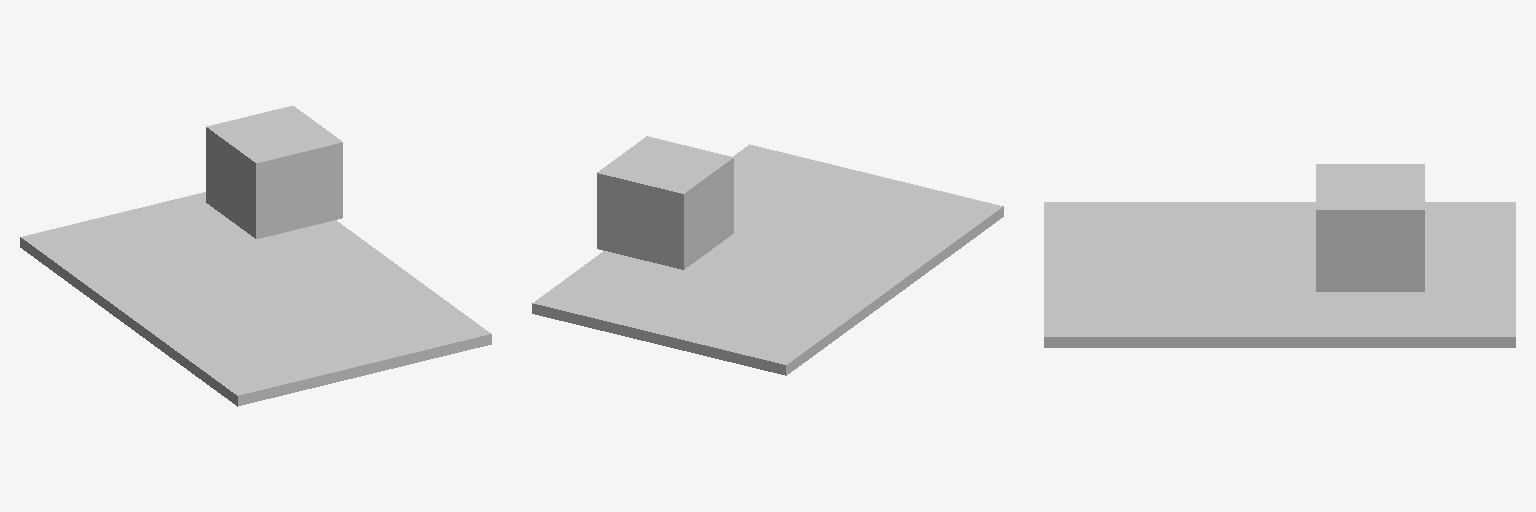
robot.urdf — cabinet_sektion:
<?xml version="1.0"?>
<robot name="cabinet_sektion">
  <material name="White">
    <color rgba="0.85 0.85 0.85 1.0"/>
  </material>
  <material name="Grey">
    <color rgba="0.6 0.6 0.6 1.0"/>
  </material>
  <material name="Front">
    <color rgba="0.4 0.4 0.4 1.0"/>
  </material>

  <link name="sektion">
    <inertial>
      <origin rpy="0 0 0" xyz="0 0 0.0"/>
      <mass value=".2"/>
      <inertia ixx="0.1" ixy="0" ixz="0" iyy="0.1" iyz="0" izz="0.1"/>
    </inertial>
    <visual name="sektion_visual">
      <origin rpy="0  0  0" xyz="0.0364  0  -0.266"/>
      <geometry>
        <box size=".35 .518 .014"/>
      </geometry>
      <material name="White"/>
    </visual>
    <collision name="sektion_collision">
      <origin rpy="0  0  0" xyz="0.0364  0  -0.266"/>
      <geometry>
        <box size=".35 .518 .014"/>
      </geometry>
    </collision>
  </link>

  <link name="block">
    <inertial>
      <origin rpy="0 0 0" xyz="0 0 0.0"/>
      <mass value=".2"/>
      <inertia ixx="0.1" ixy="0" ixz="0" iyy="0.1" iyz="0" izz="0.1"/>
    </inertial>
    <visual name="block_visual">
      <origin rpy="0  0  0" xyz="0.  0.  0."/>
      <geometry>
        <box size=".12 .12 .1"/>
      </geometry>
      <material name="White"/>
    </visual>
    <collision name="block_collision">
      <origin rpy="0  0  0" xyz="0.  0.  0."/>
      <geometry>
        <box size=".12 .12 .1"/>
      </geometry>
    </collision>
  </link>

  <link name="drawer_top">
    <inertial>
      <origin rpy="0 0 0" xyz="0 0 0.0"/>
      <mass value=".2"/>
      <inertia ixx="0.1" ixy="0" ixz="0" iyy="0.1" iyz="0" izz="0.1"/>
    </inertial>
    <visual name="drawer_top_visual">
      <origin rpy="0  0  0" xyz="0  0  0"/>
      <geometry>
        <mesh filename="sektion_cabinet_model/meshes/drawer.obj" scale="0.7 0.7 0.7"/>
      </geometry>
      <material name="Front"/>
    </visual>
    <collision name="drawer_top_collision">
      <origin rpy="0  0  0" xyz="0  0  0"/>
      <geometry>
        <mesh filename="sektion_cabinet_model/meshes/drawer.obj" scale="0.7 0.7 0.7"/>
      </geometry>
    </collision>
  </link>

  <link name="drawer_handle_top">
    <inertial>
      <origin rpy="0 0 0" xyz="0 0 0"/>
      <mass value="0.01"/>
      <inertia ixx="0.1" ixy="0" ixz="0" iyy="0.1" iyz="0" izz="0.1"/>
    </inertial>
    <visual name="drawer_handle_top_visual">
      <origin rpy="0  0  0" xyz="0  0  0"/>
      <geometry>
        <mesh filename="sektion_cabinet_model/meshes/drawer_handle.obj" scale="0.7 0.7 0.7"/>
      </geometry>
      <material name="Grey"/>
    </visual>
    <collision name="drawer_handle_top_collision">
      <geometry>
        <mesh filename="sektion_cabinet_model/meshes/drawer_handle.obj" scale="0.7 0.7 0.7"/>
      </geometry>
    </collision>
    <contact>
      <lateral_friction value="1.0"/>
      <spinning_friction value="0.3"/>
      <inertia_scaling value="3.0"/>
    </contact>
  </link>

  <link name="drawer_bottom">
    <inertial>
      <origin rpy="0 0 0" xyz="0 0 0.0"/>
      <mass value=".2"/>
      <inertia ixx="0.1" ixy="0" ixz="0" iyy="0.1" iyz="0" izz="0.1"/>
    </inertial>
    <visual name="drawer_bottom_visual">
      <origin rpy="0  0  0" xyz="0  0  0"/>
      <geometry>
        <mesh filename="sektion_cabinet_model/meshes/drawer.obj" scale="0.7 0.7 0.7"/>
      </geometry>
      <material name="Front"/>
    </visual>
    <collision name="drawer_bottom_collision">
      <origin rpy="0  0  0" xyz="0  0  0"/>
      <geometry>
        <mesh filename="sektion_cabinet_model/meshes/drawer.obj" scale="0.7 0.7 0.7"/>
      </geometry>
      <material name="White"/>
    </collision>
  </link>

  <link name="drawer_handle_bottom">
    <inertial>
      <origin rpy="0 0 0" xyz="0 0 0"/>
      <mass value="0.01"/>
      <inertia ixx="0.1" ixy="0" ixz="0" iyy="0.1" iyz="0" izz="0.1"/>
    </inertial>
    <visual name="drawer_top_visual">
      <origin rpy="0  0  0" xyz="0  0  0"/>
      <geometry>
        <mesh filename="sektion_cabinet_model/meshes/drawer_handle.obj" scale="0.7 0.7 0.7"/>
      </geometry>
      <material name="Grey"/>
    </visual>
    <collision name="drawer_top_collision">
      <origin rpy="0  0  0" xyz="0  0  0"/>
      <geometry>
        <mesh filename="sektion_cabinet_model/meshes/drawer_handle.obj" scale="0.7 0.7 0.7"/>
      </geometry>
      <material name="White"/>
    </collision>
    <contact>
      <lateral_friction value="1.0"/>
      <spinning_friction value="0.3"/>
      <inertia_scaling value="3.0"/>
    </contact>
  </link>

  <link name="door_right_link">
    <inertial>
      <origin rpy="0 0 0" xyz="0 0 0.0"/>
      <mass value=".2"/>
      <inertia ixx="0.1" ixy="0" ixz="0" iyy="0.1" iyz="0" izz="0.1"/>
    </inertial>
    <visual name="door_right_visual">
      <origin rpy="0  0  0" xyz="0  -0.1292942  0"/>
      <geometry>
        <mesh filename="sektion_cabinet_model/meshes/door_right.obj" scale="0.7 0.7 0.7"/>
      </geometry>
      <material name="Front"/>
    </visual>
    <collision name="door_right_collision">
      <origin rpy="0  0  0" xyz="0  -0.1292942  0"/>
      <geometry>
        <mesh filename="sektion_cabinet_model/meshes/door_right.obj" scale="0.7 0.7 0.7"/>
      </geometry>
      <material name="White"/>
    </collision>
  </link>

  <link name="door_right_nob_link">
    <inertial>
      <origin rpy="0 0 0" xyz="0 0 0"/>
      <mass value="0.01"/>
      <inertia ixx="0.1" ixy="0" ixz="0" iyy="0.1" iyz="0" izz="0.1"/>
    </inertial>
    <visual name="door_right_nob_visual">
      <origin rpy="0  0  0" xyz="-0.189  -0.196  0.119"/>
      <geometry>
        <mesh filename="sektion_cabinet_model/meshes/drawer_handle.obj" scale="0.7 0.7 0.7"/>
      </geometry>
      <material name="Grey"/>
    </visual>
    <collision name="door_right_nob_collision">
      <origin rpy="0  0  0" xyz="-0.189  -0.196  0.119"/>
      <geometry>
        <mesh filename="sektion_cabinet_model/meshes/drawer_handle.obj" scale="0.7 0.7 0.7"/>
      </geometry>
    </collision>
    <contact>
      <lateral_friction value="1.0"/>
      <spinning_friction value="0.3"/>
      <inertia_scaling value="3.0"/>
    </contact>
  </link>

  <link name="door_left_link">
    <inertial>
      <origin rpy="0 0 0" xyz="0 0 0.0"/>
      <mass value=".2"/>
      <inertia ixx="0.1" ixy="0" ixz="0" iyy="0.1" iyz="0" izz="0.1"/>
    </inertial>
    <visual name="door_left_visual">
      <origin rpy="0  0  0" xyz="0  0.1292942  0"/>
      <geometry>
        <mesh filename="sektion_cabinet_model/meshes/door_left.obj" scale="0.7 0.7 0.7"/>
      </geometry>
      <material name="Front"/>
    </visual>
    <collision name="door_left_collision">
      <origin rpy="0  0  0" xyz="0  0.1292942  0"/>
      <geometry>
        <mesh filename="sektion_cabinet_model/meshes/door_left.obj" scale="0.7 0.7 0.7"/>
      </geometry>
    </collision>
  </link>

  <link name="door_left_nob_link">
    <inertial>
      <origin rpy="0 0 0" xyz="0 0 0"/>
      <mass value="0.01"/>
      <inertia ixx="0.1" ixy="0" ixz="0" iyy="0.1" iyz="0" izz="0.1"/>
    </inertial>
    <visual name="door_left_nob_visual">
      <origin rpy="0  0  0" xyz="-0.189  0.196  0.119"/>
      <geometry>
        <mesh filename="sektion_cabinet_model/meshes/drawer_handle.obj" scale="0.7 0.7 0.7"/>
      </geometry>
      <material name="Grey"/>
    </visual>
    <collision name="door_left_nob_collision">
      <origin rpy="0  0  0" xyz="-0.189  0.196  0.119"/>
      <geometry>
        <mesh filename="sektion_cabinet_model/meshes/drawer_handle.obj" scale="0.7 0.7 0.7"/>
      </geometry>
    </collision>
    <contact>
      <lateral_friction value="1.0"/>
      <spinning_friction value="0.3"/>
      <inertia_scaling value="3.0"/>
    </contact>
  </link>

  <joint name="sektion_block_joint" type="fixed">
    <parent link="sektion"/>
    <child link="block"/>
    <origin xyz="0.12 0.1 -0.17" rpy="0 0 0"/>
    <axis xyz="0 0 1"/>
  </joint>

  <joint name="door_right_joint" type="revolute">
    <parent link="sektion"/>
    <child link="door_right_link"/>
    <origin xyz="0.22134 0.26299 -0.090811" rpy="0 0 0"/>
    <axis xyz="0 0 1"/>
    <limit effort="1000.0" lower="0" upper="2.57" velocity="10.0"/>
    <dynamics damping="0.0" friction="0.0"/>
  </joint>
  <joint name="door_right_nob_transform" type="fixed">
    <parent link="door_right_link"/>
    <child link="door_right_nob_link"/>
    <origin xyz="0 0 0" rpy="0 0 0"/>
    <axis xyz="0 0 1"/>
  </joint>

  <joint name="door_left_joint" type="revolute">
    <parent link="sektion"/>
    <child link="door_left_link"/>
    <origin xyz="0.22134 -0.26299 -0.090811" rpy="0 0 0"/>
    <axis xyz="0 0 1"/>
    <limit effort="1000.0" lower="-2.57" upper="0." velocity="10.0"/>
    <dynamics damping="0.01" friction="0.01"/>
  </joint>

  <joint name="door_left_nob_transform" type="fixed">
    <parent link="door_left_link"/>
    <child link="door_left_nob_link"/>
    <origin xyz="0 0 0" rpy="0 0 0"/>
    <axis xyz="0 0 1"/>
  </joint>

  <joint name="drawer_top_joint" type="prismatic">
    <parent link="sektion"/>
    <child link="drawer_top"/>
    <origin xyz="0.03605 0 0.22204" rpy="0 0 0"/>
    <axis xyz="1 0 0"/>
    <limit effort="1000.0" lower="0.0" upper="0.2" velocity="10.0"/>
    <dynamics damping="0.01" friction="0.01"/>
  </joint>

  <joint name="drawer_handle_top_joint" type="fixed">
    <parent link="drawer_top"/>
    <child link="drawer_handle_top"/>
    <origin xyz="0 0 0" rpy="0 0 0"/>
    <axis xyz="1 0 0"/>
    <limit effort="1000.0" lower="0.0" upper="0.2" velocity="0.1"/>
  </joint>

  <joint name="drawer_bottom_joint" type="prismatic">
    <parent link="sektion"/>
    <child link="drawer_bottom"/>
    <origin xyz="0.03605 0 0.133" rpy="0 0 0"/>
    <axis xyz="1 0 0"/>
    <limit effort="1000.0" lower="0.0" upper="0.2" velocity="10.0"/>
    <dynamics damping="0.01" friction="0.01"/>
  </joint>

  <joint name="drawer_handle_bottom_joint" type="fixed">
    <parent link="drawer_bottom"/>
    <child link="drawer_handle_bottom"/>
    <origin xyz="0 0 0" rpy="0 0 0"/>
    <axis xyz="1 0 0"/>
    <limit effort="1000.0" lower="0.0" upper="0.2" velocity="0.1"/>
  </joint>

</robot>

--- What the picture shows (computed from the rendered views, not written in the file) ---
The picture shows the robot from 3 angles, left to right: view 1: azimuth 30°, elevation 25°; view 2: azimuth 150°, elevation 25°; view 3: azimuth 270°, elevation 25°; orthographic projection.
Robot: cabinet_sektion — 10 links, 9 joints (2 revolute, 2 prismatic, 5 fixed); root link sektion; default pose: all joints at 0.
Visible links, largest first — view 1: sektion, block; view 2: sektion, block; view 3: sektion, block.
Boxes of the visible links, x1=… form: sektion: x1=20, y1=192, x2=491, y2=406; block: x1=206, y1=106, x2=342, y2=238; sektion: x1=532, y1=144, x2=1003, y2=375; block: x1=597, y1=136, x2=733, y2=269; sektion: x1=1044, y1=202, x2=1515, y2=347; block: x1=1316, y1=164, x2=1424, y2=291.
Size in the robot's own frame: 0.35 by 0.518 by 0.153 metres.
0 mesh visuals loaded from 4 distinct referenced files (none loaded); not drawn: 8 (reference not matched to a file when rendering).